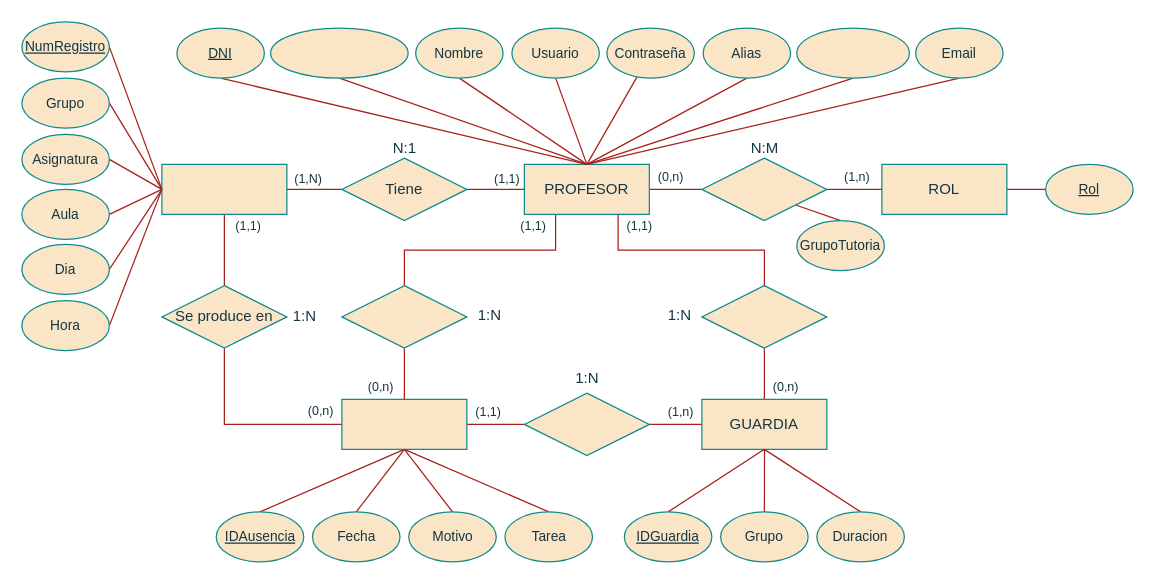
Image size: 1155x584. Some labels were removed from this diagram. The centre of each missing label's shape, as x and y in pixels:
AUSENCIA: the point at 404,423
Cubre: the point at 586,424
CursoAcadémico: the point at 338,52
Departamento: the point at 852,52
Desempeña: the point at 764,189
HORARIO: the point at 224,188
Produce: the point at 404,316
Realiza: the point at 764,316
